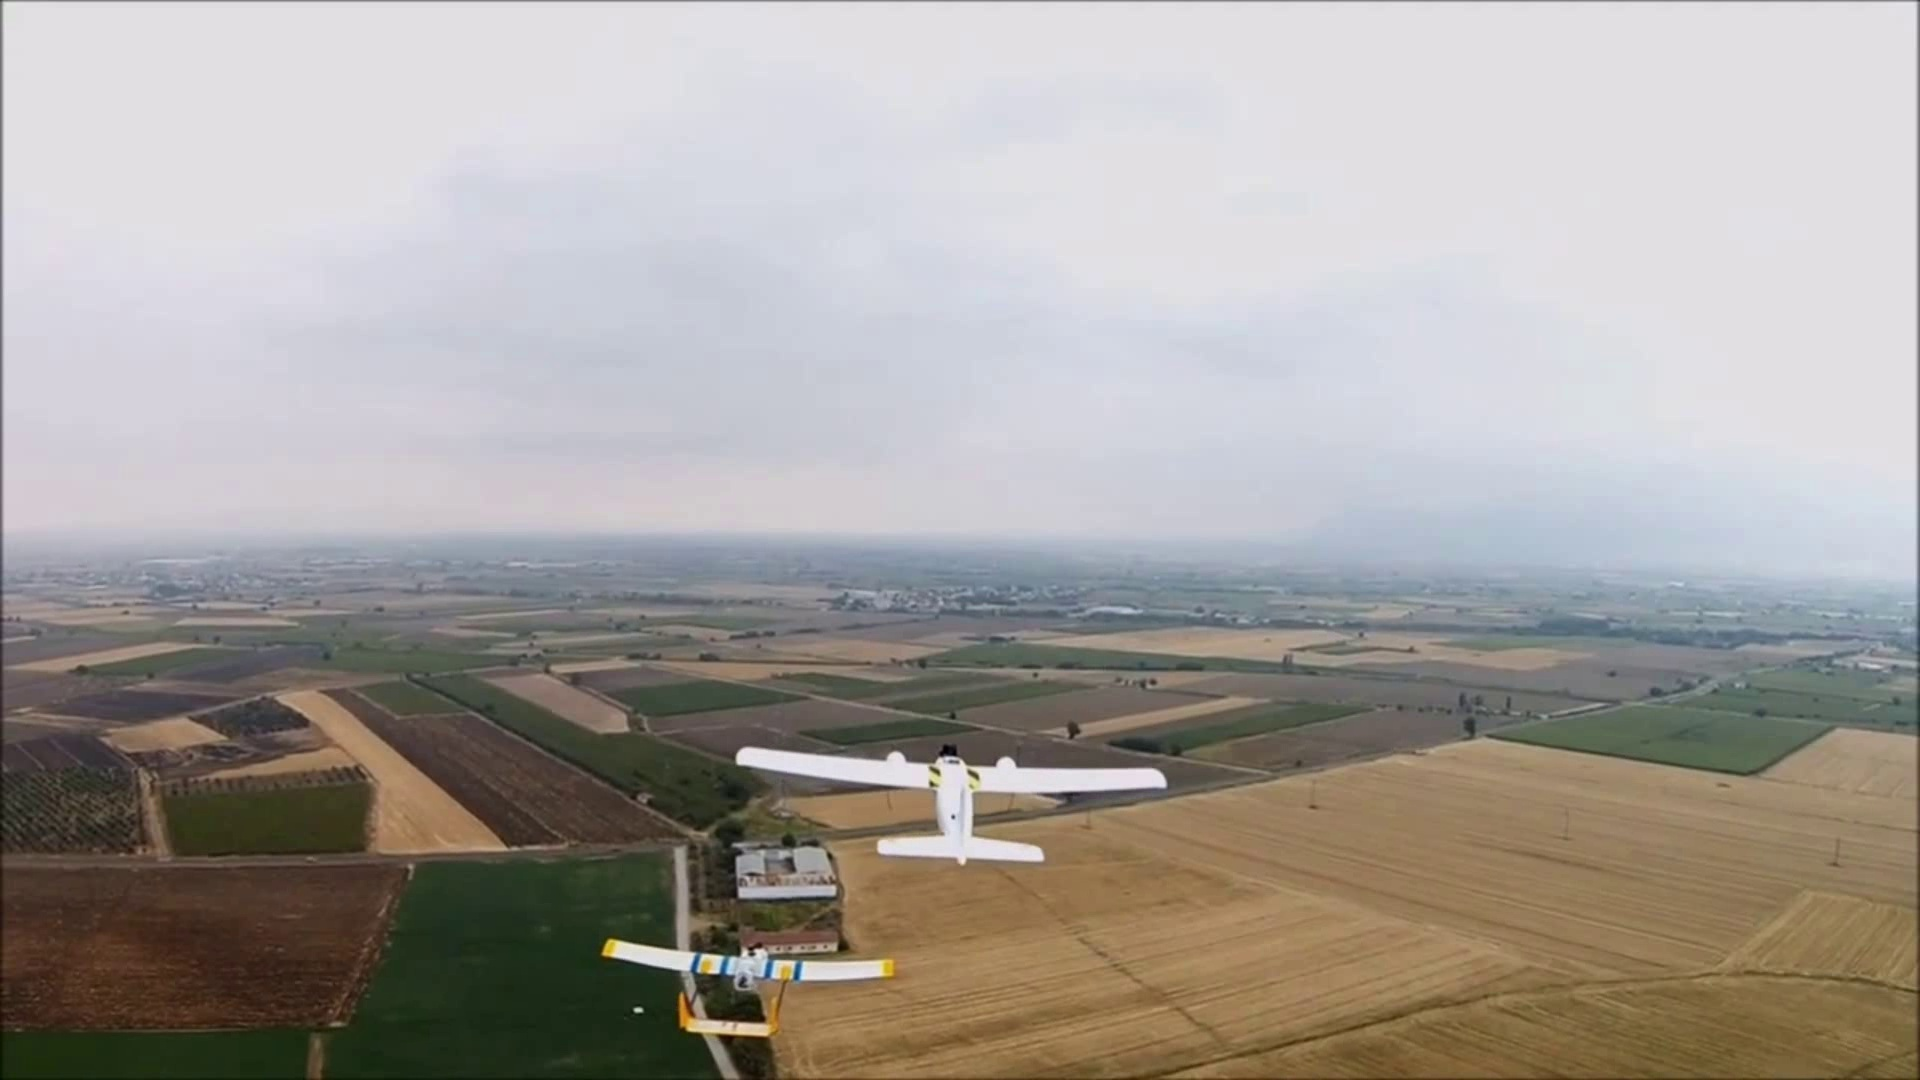airplane: (733, 729, 1171, 815)
